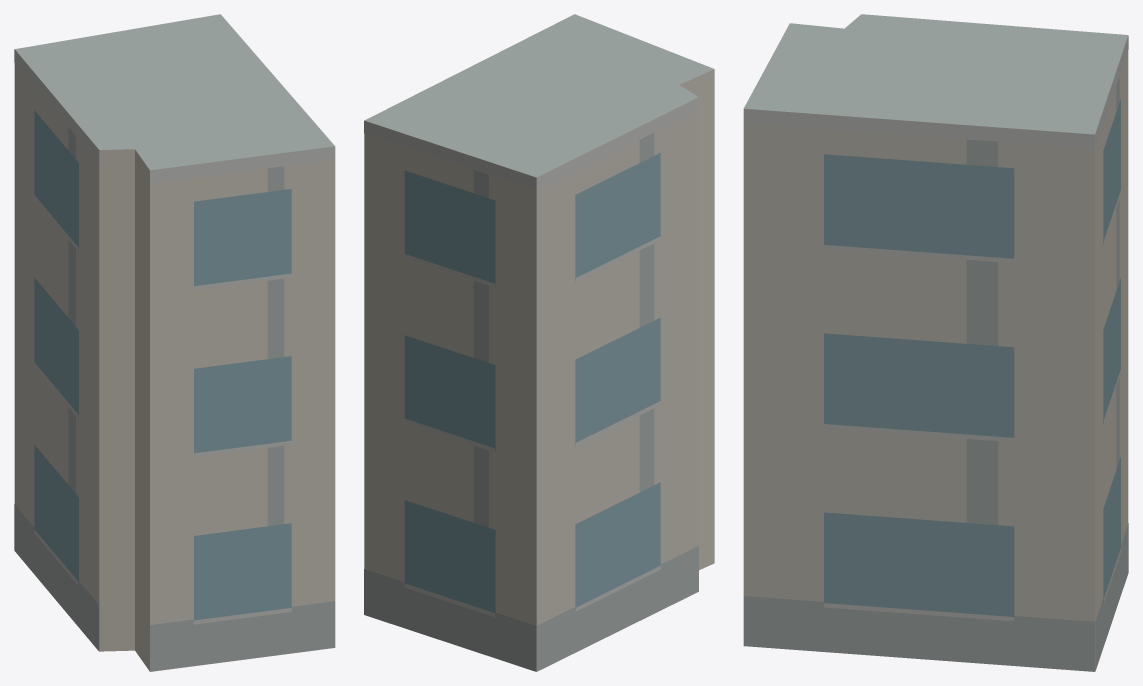
The model's file is survey-upis-32538371.glb.
3 views of the same model, side by side, from view 1: azimuth 30°, elevation 25°; view 2: azimuth 150°, elevation 25°; view 3: azimuth 270°, elevation 25° (orthographic). The views are drawn at different scales.
Parts seen in each view (by area): view 1: survey-upis-32538371.tmp; view 2: survey-upis-32538371.tmp; view 3: survey-upis-32538371.tmp.
Part boxes in pixels (left/top/right/bottom): survey-upis-32538371.tmp: left=14, top=14, right=335, bottom=671; survey-upis-32538371.tmp: left=364, top=14, right=714, bottom=671; survey-upis-32538371.tmp: left=743, top=14, right=1128, bottom=671.
Bounding box in the file's own units: 4.41 × 9.15 × 5.95.
